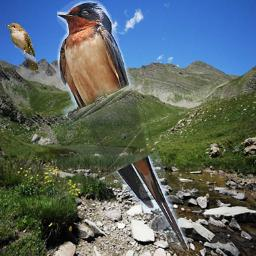Cuckoo: (4, 22, 38, 71)
Swallow: (57, 0, 189, 251)
